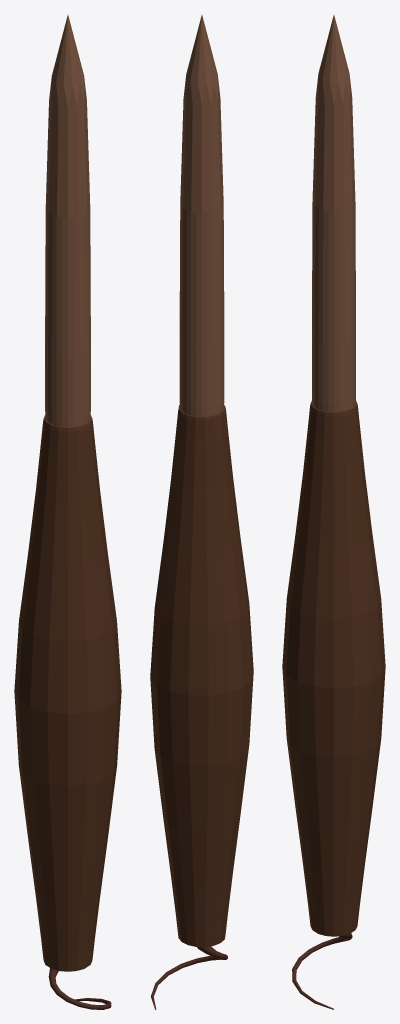
File: Wand 109.glb
3 views of the same model, side by side, from view 1: azimuth 90°, elevation 25°; view 2: azimuth 210°, elevation 25°; view 3: azimuth 270°, elevation 25° (orthographic). The views are drawn at different scales.
Parts seen in each view (by area): view 1: GeneratedWand; view 2: GeneratedWand; view 3: GeneratedWand.
Part boxes in pixels (left/top/right/bottom): GeneratedWand: left=14, top=15, right=121, bottom=1009; GeneratedWand: left=150, top=15, right=253, bottom=1009; GeneratedWand: left=282, top=15, right=385, bottom=1009.
Size of the model in its own units: 0.0507 by 0.5183 by 0.0499.
